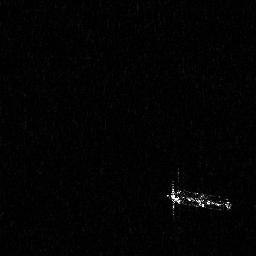ship: (161, 177, 234, 217)
